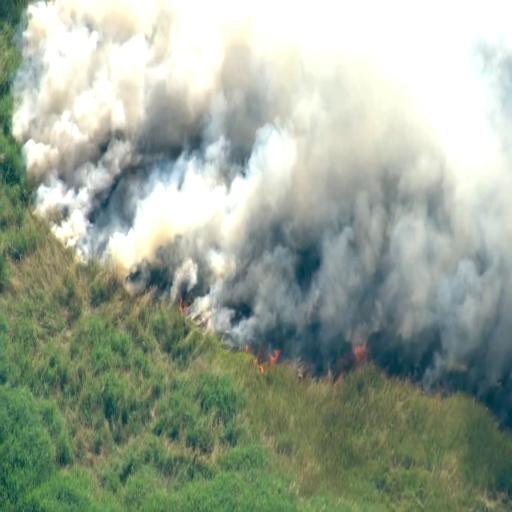smoke: (92, 113, 393, 329), (303, 156, 512, 394), (23, 6, 143, 233)
